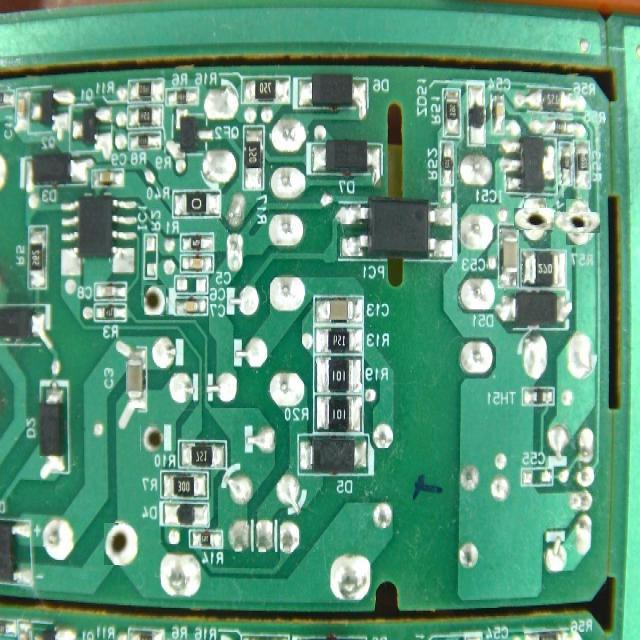damged: (104, 523, 137, 565), (560, 205, 594, 239), (519, 203, 551, 236), (140, 424, 164, 452), (144, 285, 166, 315)
